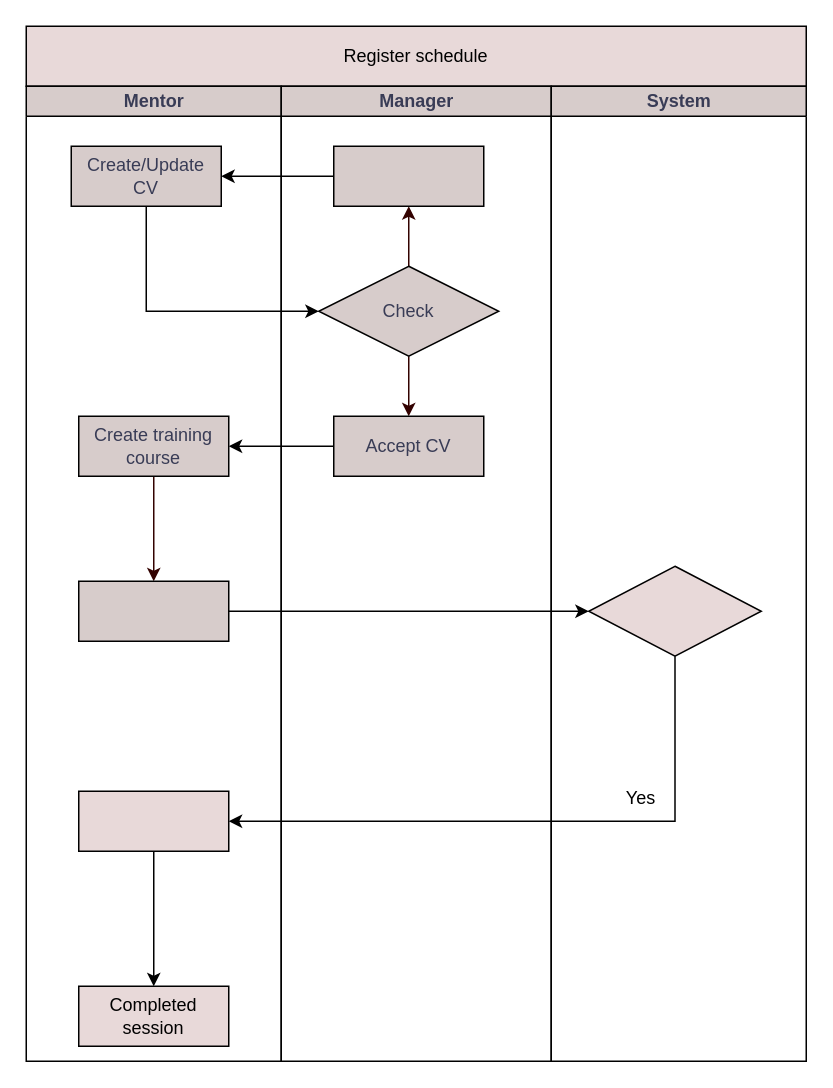
The diagram is 833 pixels wide and 1088 high, and some of its shapes have lost their labels. Here are the shapes that lost their labels. From the top down, the centre of each, then its label:
At pixel 408 175: "Reject CV".
At pixel 153 610: "Manage schedule".
At pixel 674 610: "Check is exist mentee".
At pixel 153 820: "Check session".
